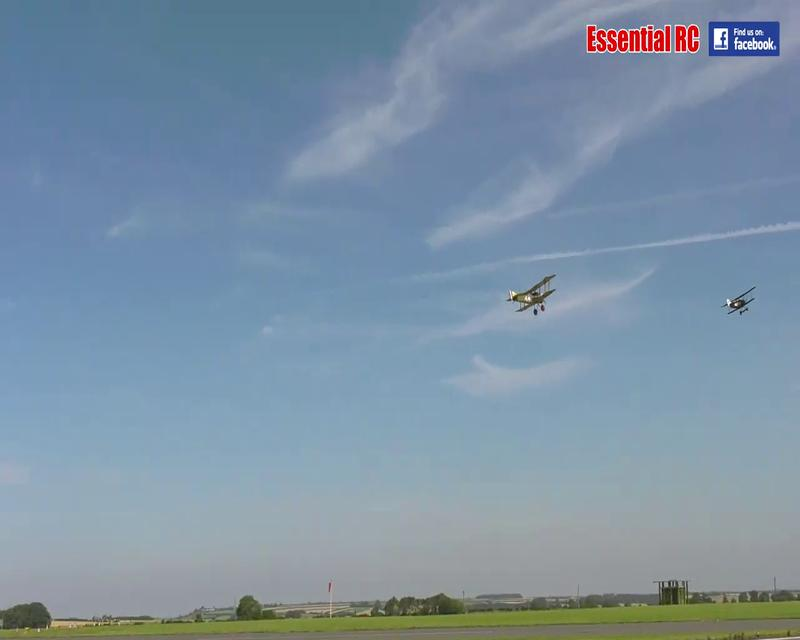UAV: (505, 273, 556, 317)
